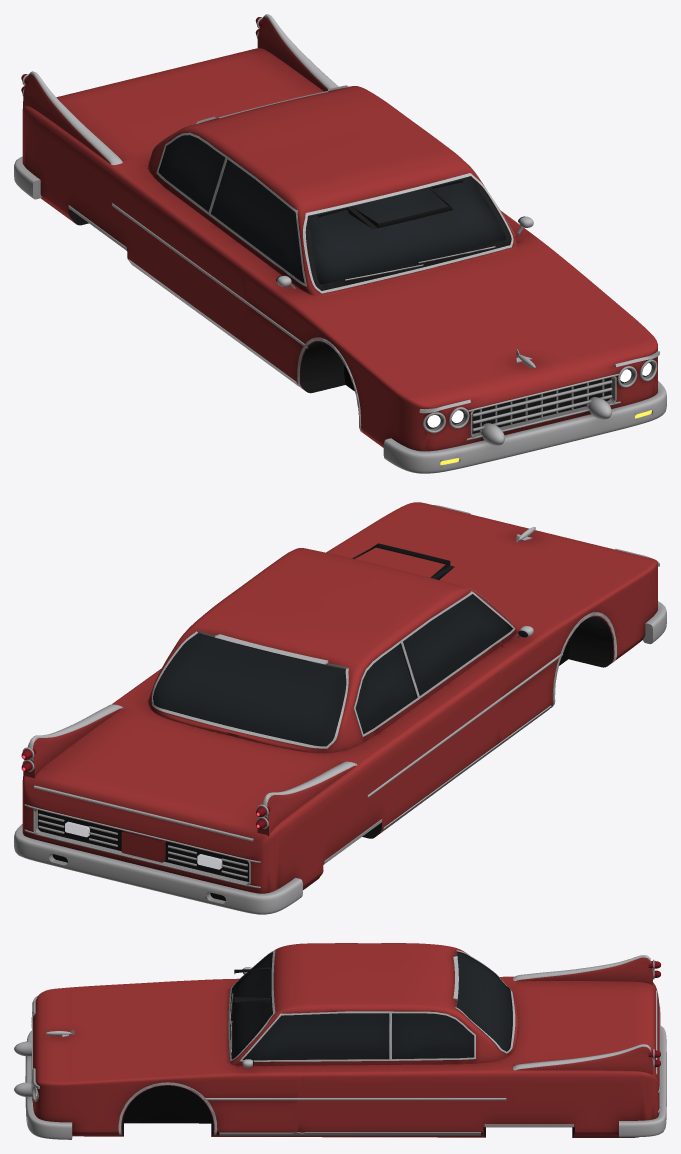
Rendered from jukebox.glb.
The picture shows the model from 3 angles, top to bottom: view 1: azimuth 30°, elevation 25°; view 2: azimuth 150°, elevation 25°; view 3: azimuth 270°, elevation 25°; orthographic projection. The views are drawn at different scales.
Parts seen in each view (by area): view 1: paint, chrome, window, trim, grille; view 2: paint, window, chrome, trim, grille; view 3: paint, window, chrome, trim.
Part boxes in pixels (left/top/right/bottom): paint: left=22, top=17, right=657, bottom=451; chrome: left=14, top=14, right=666, bottom=473; window: left=159, top=135, right=509, bottom=290; trim: left=68, top=135, right=511, bottom=393; grille: left=472, top=377, right=610, bottom=433; paint: left=22, top=502, right=657, bottom=893; window: left=153, top=594, right=511, bottom=745; chrome: left=14, top=505, right=666, bottom=914; trim: left=153, top=543, right=613, bottom=838; grille: left=38, top=810, right=248, bottom=881; paint: left=32, top=943, right=659, bottom=1137; window: left=232, top=952, right=511, bottom=1059; chrome: left=14, top=949, right=666, bottom=1139; trim: left=122, top=951, right=637, bottom=1137.
Size of what is drawn, in the model's own units: 2.12 by 1.16 by 5.69.
